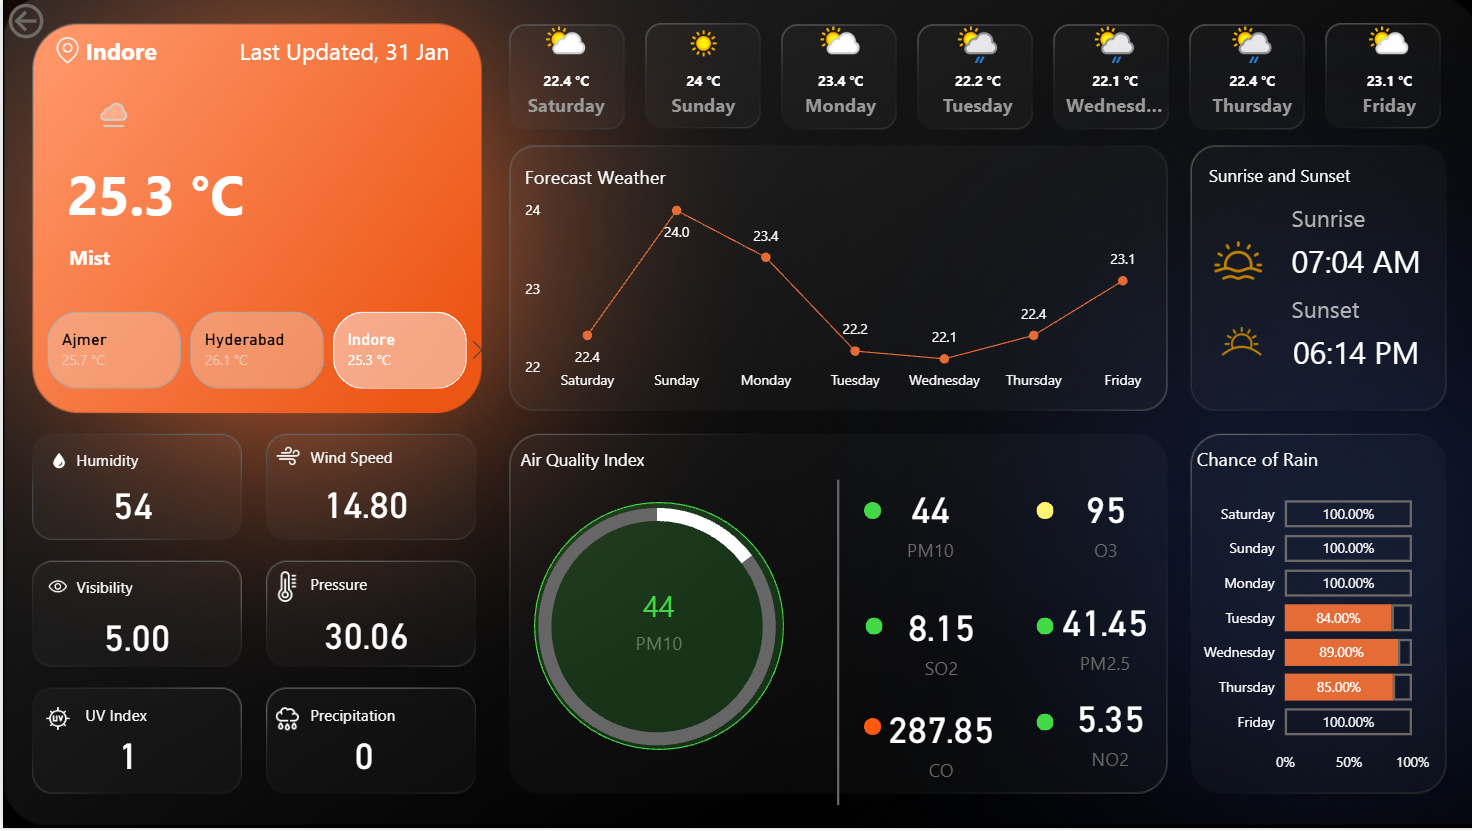

The dashboard page shown, as its layout file describes it:
{"tool":"powerbi","page":{"name":"Page 1","canvas":[1280,720],"ordinal":0},"visuals":[{"type":"advancedSlicerVisual","fields":{"Values":["Locations.location.name"]},"box":[12.9,267.1,414.3,77.1],"z":0},{"type":"shape","box":[55.7,112.9,207.1,111.4],"z":1000},{"type":"shape","box":[192.9,22.9,207.1,45.7],"z":2000},{"type":"shape","box":[71.4,25.7,148.6,38.6],"z":3000},{"type":"image","box":[24.3,28.6,62.9,32.9],"z":4000},{"type":"shape","box":[57.1,201.4,207.1,45.7],"z":5000},{"type":"cardVisual","fields":{"Data":["Min(Current.current.condition.icon)"]},"box":[24.3,45.7,105.7,107.1],"z":6000},{"type":"image","box":[27.1,388.6,42.9,24.3],"z":7000},{"type":"image","box":[18.2,495.1,59.1,28.8],"z":8000},{"type":"shape","box":[63.6,495.1,163.5,28.8],"z":9000},{"type":"shape","box":[64.3,385.7,162.9,30],"z":10000},{"type":"image","box":[218,381.6,57.5,31.8],"z":11000},{"type":"image","box":[228.3,488.3,36.7,45],"z":12000},{"type":"image","box":[227.1,607.2,37.9,34.8],"z":13000},{"type":"image","box":[27.3,608.7,40.9,31.8],"z":14000},{"type":"shape","box":[71.7,606.7,161.7,30],"z":15000},{"type":"shape","box":[266.7,606.7,161.7,30],"z":16000},{"type":"shape","box":[266.7,493.3,161.7,30],"z":17000},{"type":"shape","box":[266.5,383.1,162,30.3],"z":18000},{"type":"card","fields":{"Values":["Sum(Current.current.humidity)"]},"box":[48.5,405.5,127.6,64.6],"z":19000},{"type":"card","fields":{"Values":["Sum(Current.current.wind_kph)"]},"box":[250.4,412,129.2,50.1],"z":20000},{"type":"card","fields":{"Values":["Sum(Current.current.pressure_in)"]},"box":[237.5,523.4,153.5,56.5],"z":21000},{"type":"card","fields":{"Values":["Sum(Current.current.vis_km)"]},"box":[40.4,523.4,150.2,59.8],"z":22000},{"type":"card","fields":{"Values":["Sum(Current.current.precip_in)"]},"box":[263.3,625.2,100.2,61.4],"z":23000},{"type":"card","fields":{"Values":["Sum(Current.current.uv)"]},"box":[40.4,631.7,135.7,48.5],"z":24000},{"type":"advancedSlicerVisual","fields":{"Values":["forcast_Day.Day_Name"]},"box":[428.1,12.9,836.8,108.2],"z":25000},{"type":"lineChart","title":"Forecast Weather","fields":{"Category":["forcast_Day.Day_Name"],"Y":["Sum(forcast_Day.forecast.forecastday.day.avgtemp_c)"]},"box":[448.2,144.6,559.5,205],"z":26000},{"type":"shape","box":[1046.3,137.8,163.5,30.3],"z":27000},{"type":"shape","box":[1117.5,168.1,122.7,45.4],"z":28000},{"type":"shape","box":[1117.5,204.4,122.7,45.4],"z":29000},{"type":"shape","box":[1119,278.6,122.7,56],"z":30000},{"type":"shape","box":[1117.5,246.8,122.7,45.4],"z":31000},{"type":"image","box":[1043.3,201.4,56,51.5],"z":32000},{"type":"image","box":[1046.3,266.5,56,62.1],"z":33000},{"type":"hundredPercentStackedBarChart","title":"Chance of Rain","fields":{"Y":["Sum(forcast_Day.forecast.forecastday.day.daily_chance_of_rain)","Current.Left_value_Rain"],"Category":["forcast_Day.Day_Name"]},"box":[1030.6,389.1,211.4,291.8],"z":34000},{"type":"shape","box":[448.9,385.3,162.7,29.9],"z":35000},{"type":"card","fields":{"Values":["Sum(Current.current.air_quality.so2)"]},"box":[768.8,512.5,89.8,84.2],"z":36000},{"type":"card","fields":{"Values":["Sum(Current.current.air_quality.o3)"]},"box":[924,411.5,65.5,82.3],"z":37000},{"type":"card","fields":{"Values":["Sum(Current.current.air_quality.co)"]},"box":[761.3,602.3,104.7,82.3],"z":38000},{"type":"card","fields":{"Values":["Sum(Current.current.air_quality.no2)"]},"box":[924,594.8,72.9,78.6],"z":39000},{"type":"card","fields":{"Values":["Sum(Current.current.air_quality.pm10)"]},"box":[761.3,411.5,86,82.3],"z":40000},{"type":"card","fields":{"Values":["Sum(Current.current.air_quality.pm2_5)"]},"box":[910.9,503.2,89.8,93.5],"z":41000},{"type":"actionButton","box":[0,0,100,40],"z":42000},{"type":"shape","box":[746.3,437.7,15,15],"z":43000},{"type":"shape","box":[746.3,624.7,15,15],"z":44000},{"type":"shape","box":[748.2,536.8,15,15],"z":45000},{"type":"shape","box":[895.9,621,15,15],"z":46000},{"type":"shape","box":[895.9,536.8,15,15],"z":47000},{"type":"shape","box":[895.9,437.7,15,15],"z":48000},{"type":"shape","box":[680.8,417.1,87.9,282.4],"z":49000},{"type":"card","fields":{"Values":["Sum(Current.current.air_quality.pm10)"]},"box":[525.6,497.5,86,82.3],"z":50000},{"type":"shape","box":[460.1,437.7,217,215.1],"z":51000},{"type":"donutChart","fields":{"Y":["Sum(Current.current.air_quality.pm10)","_Measures.Left_value_PM10"]},"box":[433.9,398.4,267.5,293.7],"z":52000}]}

Visuals, with their boxes in screenshot pixels (x1, y1, x2, y2), scaled from the page's 1280x720 canvas onto the 1472x831 screenshot:
advancedSlicerVisual - Locations.location.name: 15/308/491/397
shape: 64/130/302/259
shape: 222/26/460/79
shape: 82/30/253/74
image: 28/33/100/71
shape: 66/232/304/285
cardVisual - Min(Current.current.condition.icon): 28/53/150/176
image: 31/449/80/477
image: 21/571/89/605
shape: 73/571/261/605
shape: 74/445/261/480
image: 251/440/317/477
image: 263/564/305/616
image: 261/701/305/741
image: 31/703/78/739
shape: 82/700/268/735
shape: 307/700/493/735
shape: 307/569/493/604
shape: 306/442/493/477
card - Sum(Current.current.humidity): 56/468/203/543
card - Sum(Current.current.wind_kph): 288/476/437/533
card - Sum(Current.current.pressure_in): 273/604/450/669
card - Sum(Current.current.vis_km): 46/604/219/673
card - Sum(Current.current.precip_in): 303/722/418/792
card - Sum(Current.current.uv): 46/729/203/785
advancedSlicerVisual - forcast_Day.Day_Name: 492/15/1455/140
"Forecast Weather" lineChart: 515/167/1159/403
shape: 1203/159/1391/194
shape: 1285/194/1426/246
shape: 1285/236/1426/288
shape: 1287/322/1428/386
shape: 1285/285/1426/337
image: 1200/232/1264/292
image: 1203/308/1268/379
"Chance of Rain" hundredPercentStackedBarChart: 1185/449/1428/786
shape: 516/445/703/479
card - Sum(Current.current.air_quality.so2): 884/592/987/689
card - Sum(Current.current.air_quality.o3): 1063/475/1138/570
card - Sum(Current.current.air_quality.co): 875/695/996/790
card - Sum(Current.current.air_quality.no2): 1063/686/1146/777
card - Sum(Current.current.air_quality.pm10): 875/475/974/570
card - Sum(Current.current.air_quality.pm2_5): 1048/581/1151/689
actionButton: 0/0/115/46
shape: 858/505/875/522
shape: 858/721/875/738
shape: 860/620/878/637
shape: 1030/717/1048/734
shape: 1030/620/1048/637
shape: 1030/505/1048/522
shape: 783/481/884/807
card - Sum(Current.current.air_quality.pm10): 604/574/703/669
shape: 529/505/779/753
donutChart - Sum(Current.current.air_quality.pm10) x _Measures.Left_value_PM10: 499/460/807/799
